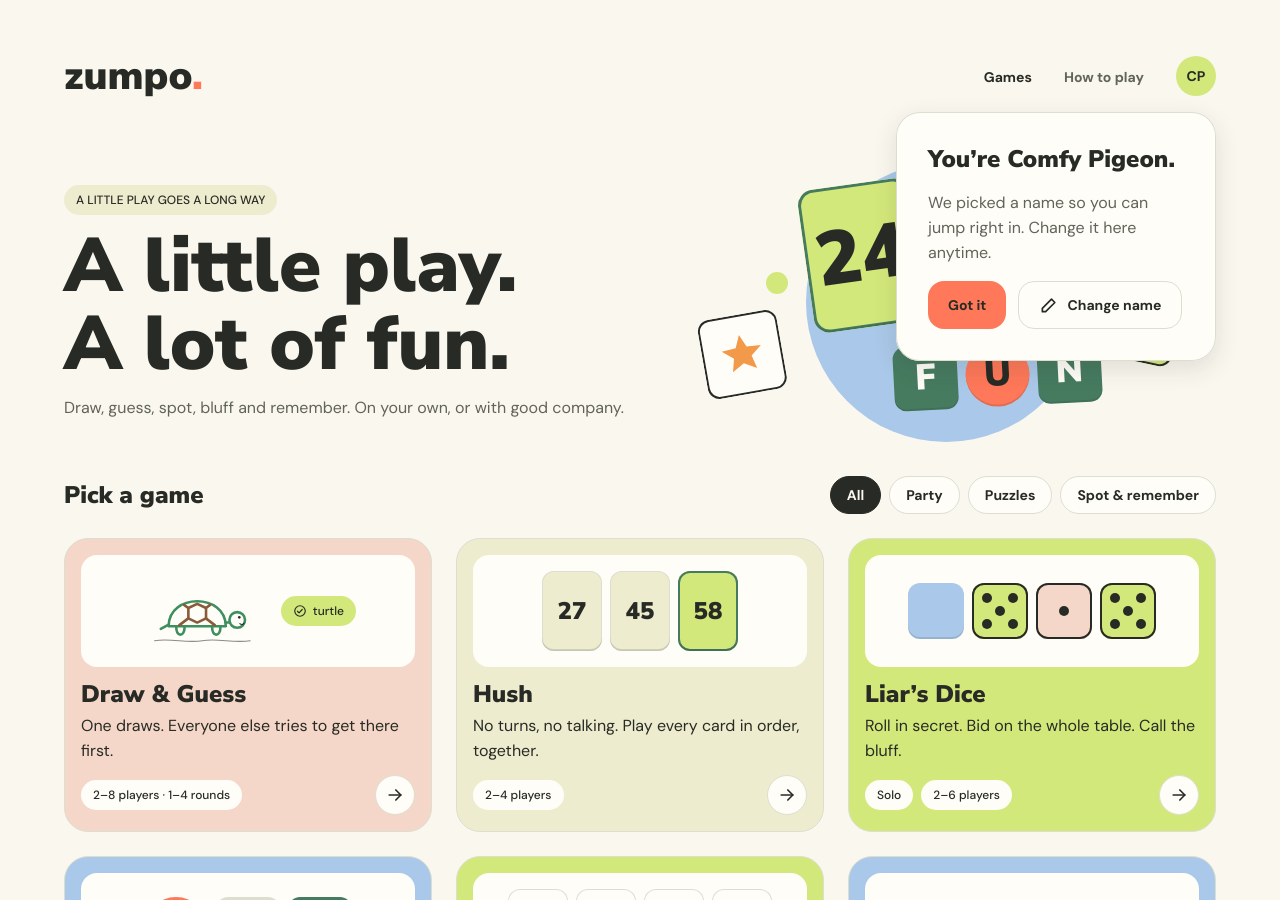
Scenario: a name › is introduced once on the front door
The width and height of the screenshot is (1280, 900).
Click the button "Got it". click: (967, 305)
box: [928, 281, 1006, 329]
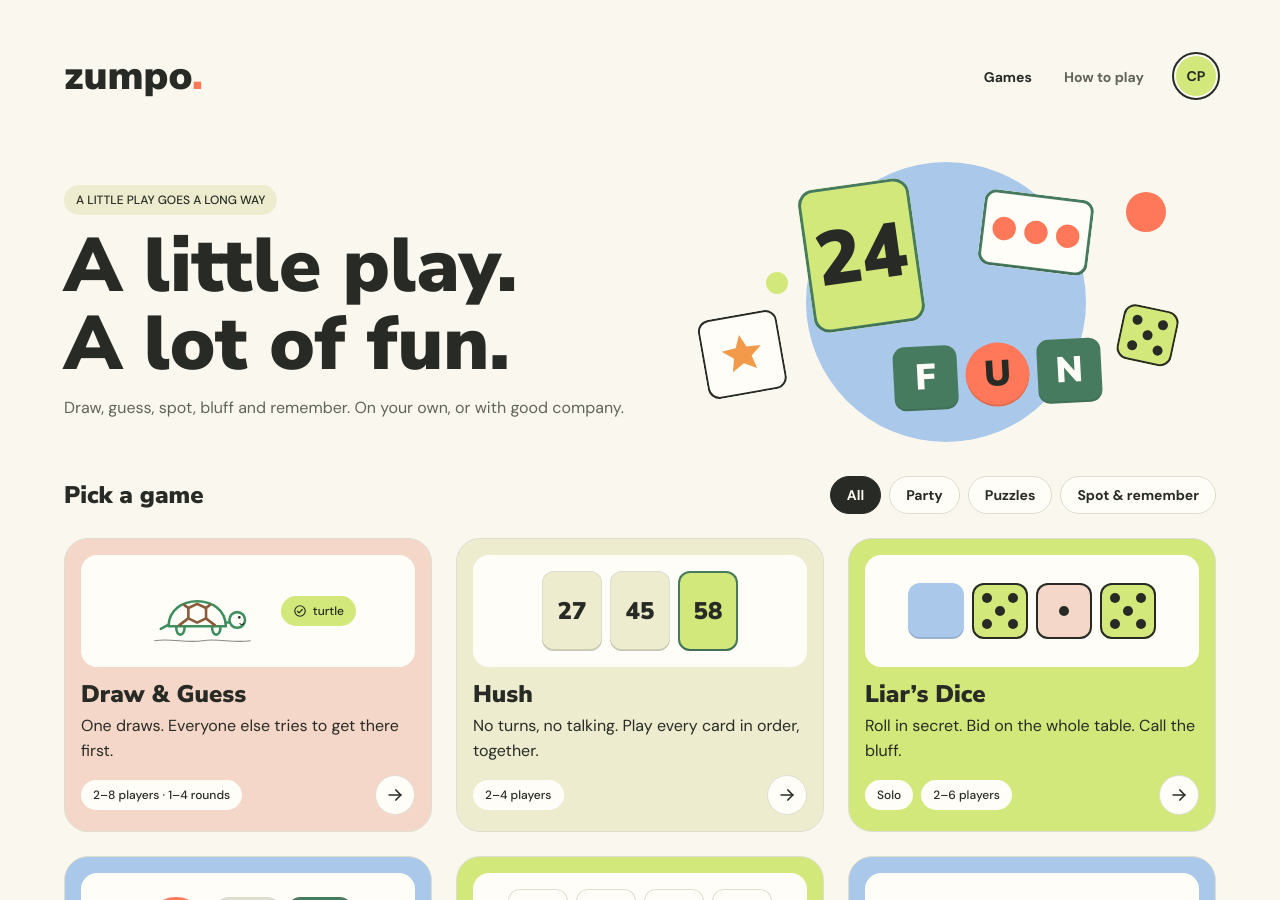
Now the dialog is gone
